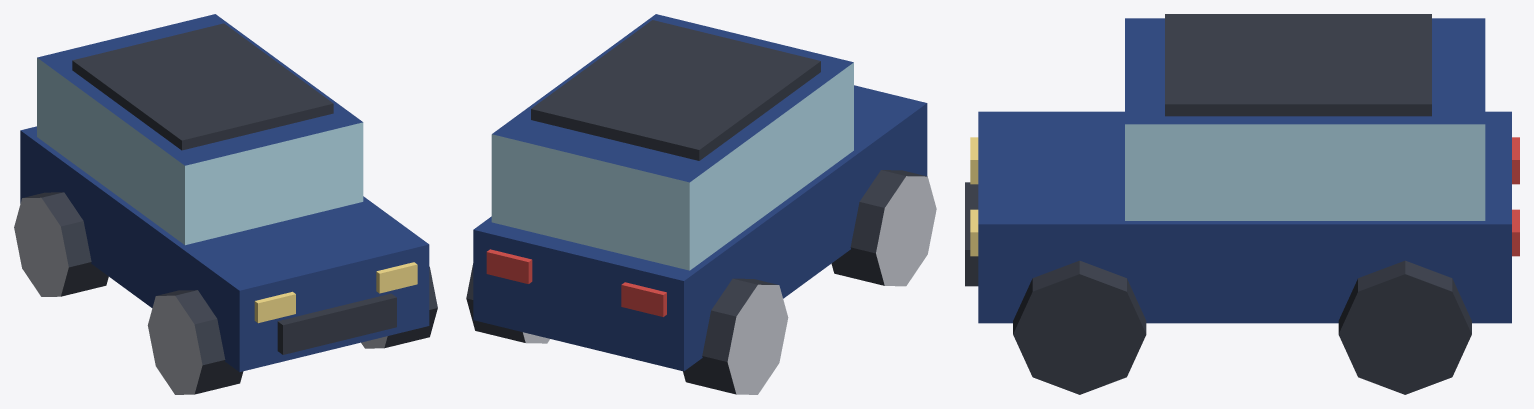
Rendered from vehicle_suv.glb.
The picture shows the model from 3 angles, left to right: view 1: azimuth 30°, elevation 25°; view 2: azimuth 150°, elevation 25°; view 3: azimuth 270°, elevation 25°; orthographic projection. The views are drawn at different scales.
Visible parts, largest first — view 1: vehicle_suv; view 2: vehicle_suv; view 3: vehicle_suv.
Boxes of the visible parts, x1,y1,x2,y2 form: vehicle_suv: (14, 14, 437, 394); vehicle_suv: (466, 14, 936, 394); vehicle_suv: (965, 14, 1519, 394).
Bounding box in the file's own units: 0.124 × 0.11 × 0.208.
